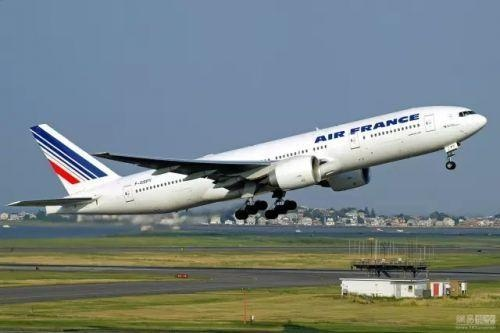airplane: (6, 101, 489, 244)
